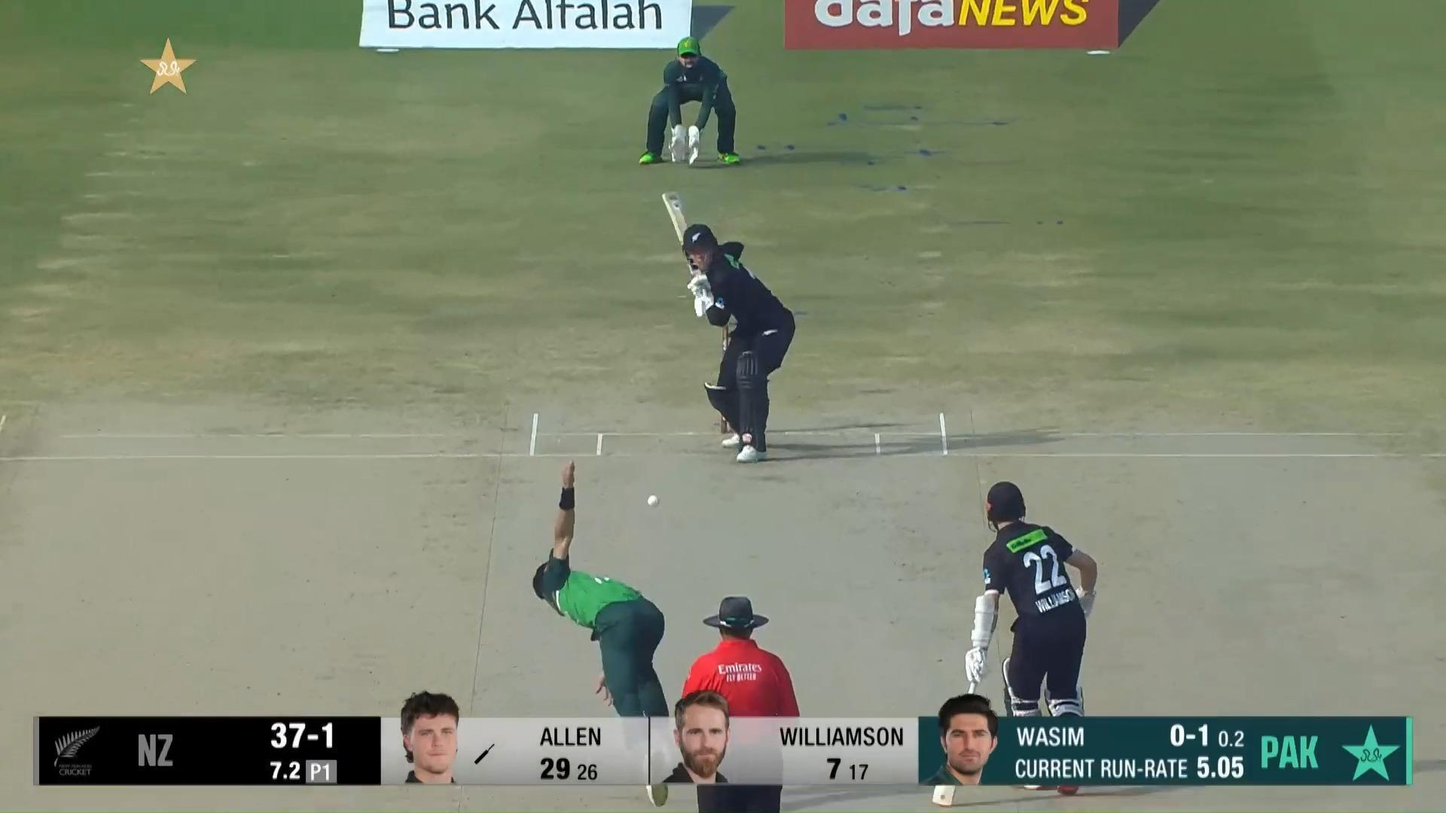BM 1: (660, 187, 797, 465)
BO: (533, 459, 669, 810)
